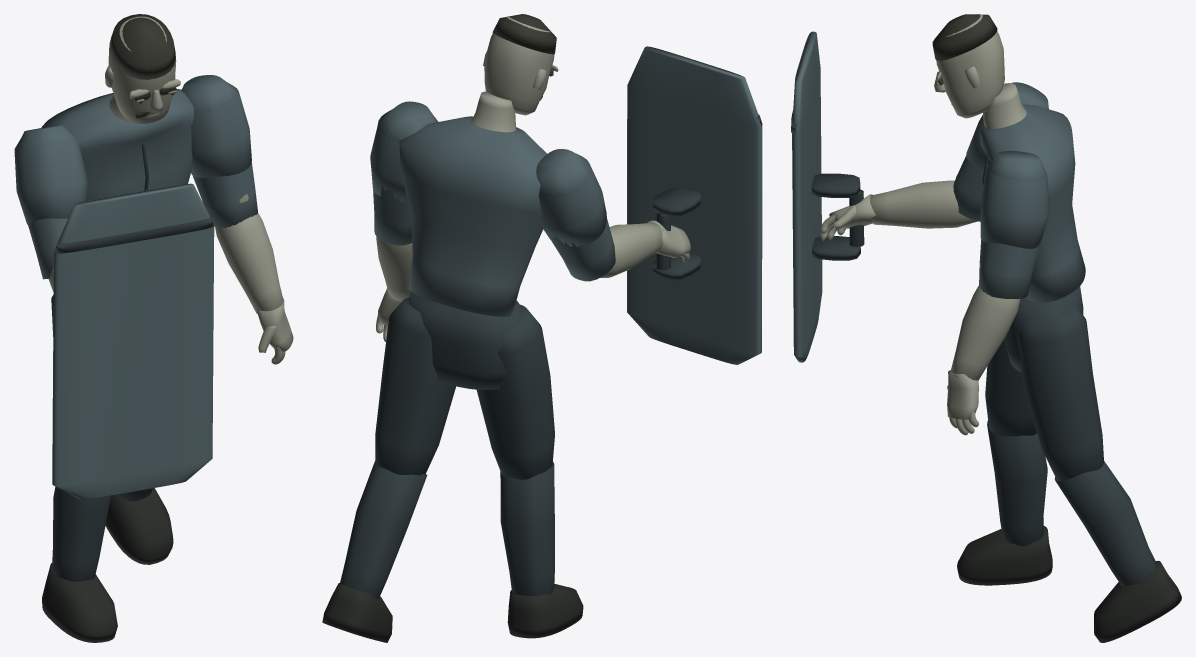
The model's file is enemy-lab-shield.glb.
The picture shows the model from 3 angles, left to right: view 1: azimuth 30°, elevation 25°; view 2: azimuth 150°, elevation 25°; view 3: azimuth 270°, elevation 25°; orthographic projection. The views are drawn at different scales.
Parts seen in each view (by area): view 1: Shield panel, Chest, Short sleeve_L, Short sleeve_R, Trouser shin_L, Shoe_L, Forearm anatomy_R, Shoe_R, Security jacket sleeve_UpperArm_R, Security cropped hair, Anatomical head, Security jacket sleeve_UpperArm_L (+2 smaller); view 2: Shield panel, Chest, Trouser thigh_R, Trouser thigh_L, Trouser shin_R, Waist, Trouser shin_L, Short sleeve_L, Anatomical head, Security jacket sleeve_UpperArm_L, Shoe_L, Short sleeve_R (+9 smaller); view 3: Trouser thigh_R, Chest, Shield panel, Trouser shin_R, Trouser shin_L, Short sleeve_R, Shoe_L, Shoe_R, Security jacket sleeve_UpperArm_R, Forearm anatomy_L, Anatomical head, Forearm anatomy_R (+10 smaller).
Part boxes in pixels (bbox=[...]): Shield panel: bbox=[52, 183, 214, 499]; Chest: bbox=[41, 88, 193, 200]; Short sleeve_L: bbox=[14, 125, 87, 224]; Short sleeve_R: bbox=[181, 75, 251, 177]; Trouser shin_L: bbox=[52, 486, 110, 581]; Shoe_L: bbox=[42, 563, 117, 642]; Forearm anatomy_R: bbox=[215, 213, 284, 313]; Shoe_R: bbox=[105, 488, 173, 564]; Security jacket sleeve_UpperArm_R: bbox=[184, 75, 257, 227]; Security cropped hair: bbox=[109, 14, 175, 79]; Anatomical head: bbox=[108, 16, 176, 123]; Security jacket sleeve_UpperArm_L: bbox=[14, 125, 77, 279]; Shield panel: bbox=[627, 46, 762, 364]; Chest: bbox=[399, 116, 546, 316]; Trouser thigh_R: bbox=[375, 297, 455, 475]; Trouser thigh_L: bbox=[476, 304, 554, 479]; Trouser shin_R: bbox=[340, 461, 427, 598]; Waist: bbox=[408, 291, 522, 389]; Trouser shin_L: bbox=[500, 462, 554, 595]; Short sleeve_L: bbox=[536, 149, 606, 246]; Anatomical head: bbox=[484, 16, 554, 115]; Security jacket sleeve_UpperArm_L: bbox=[538, 149, 615, 281]; Shoe_L: bbox=[507, 583, 583, 638]; Short sleeve_R: bbox=[370, 101, 434, 203]; Trouser thigh_R: bbox=[1017, 305, 1103, 481]; Chest: bbox=[980, 104, 1085, 303]; Shield panel: bbox=[792, 31, 822, 362]; Trouser shin_R: bbox=[1055, 461, 1156, 586]; Trouser shin_L: bbox=[987, 420, 1047, 546]; Short sleeve_R: bbox=[980, 151, 1049, 248]; Shoe_L: bbox=[957, 526, 1052, 585]; Shoe_R: bbox=[1094, 560, 1181, 642]; Security jacket sleeve_UpperArm_R: bbox=[979, 151, 1046, 298]; Forearm anatomy_L: bbox=[870, 180, 977, 228]; Anatomical head: bbox=[936, 14, 1004, 118]; Forearm anatomy_R: bbox=[950, 285, 1020, 380].
Size of the model in its own units: 0.9109 by 1.68 by 1.02.
